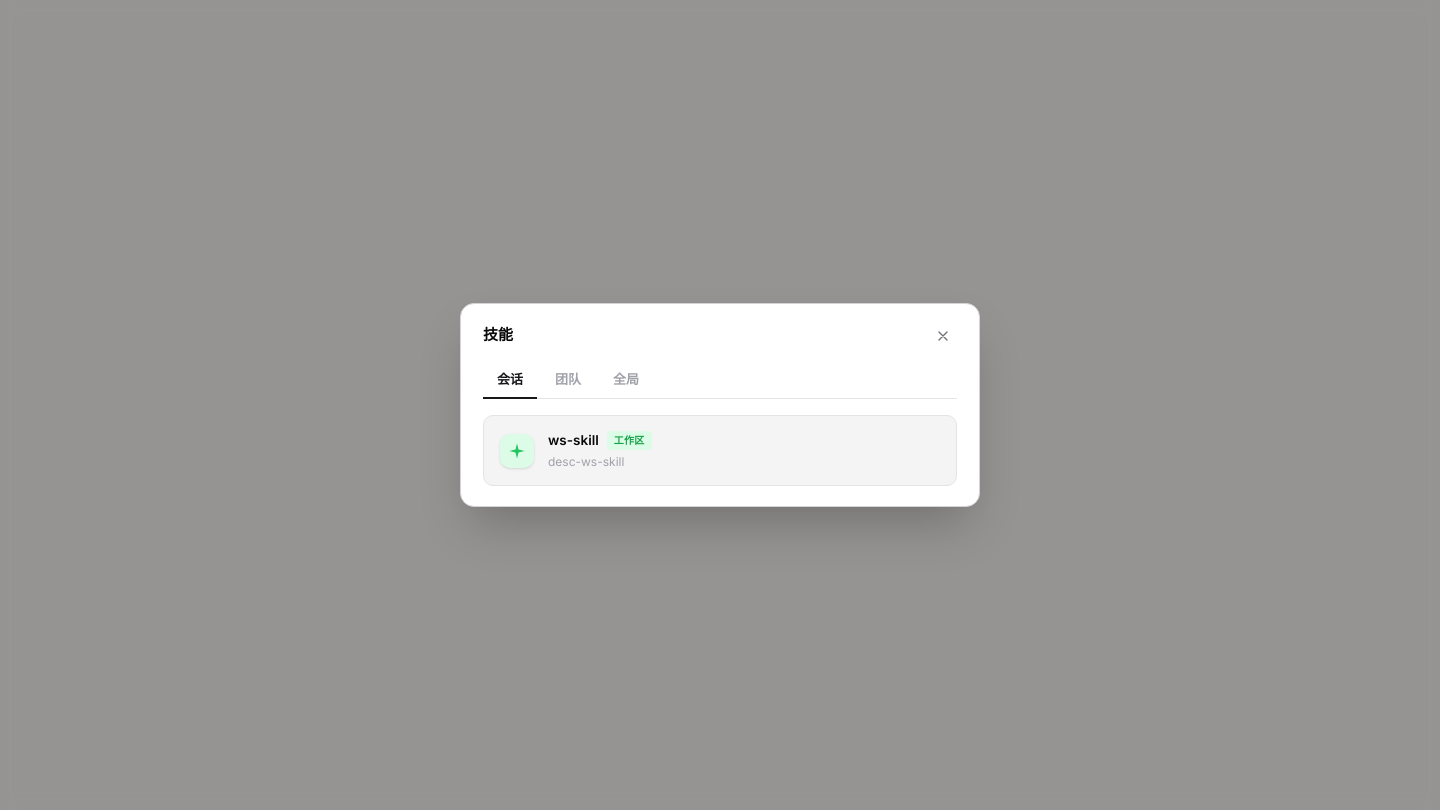
Test: ComponentSkillsModal — 空态（playground group tab，UC-S3） › group 组为空 → 空态 icon + muted 文案
Click the tab "团队". click: click(568, 379)
box: [555, 371, 581, 387]
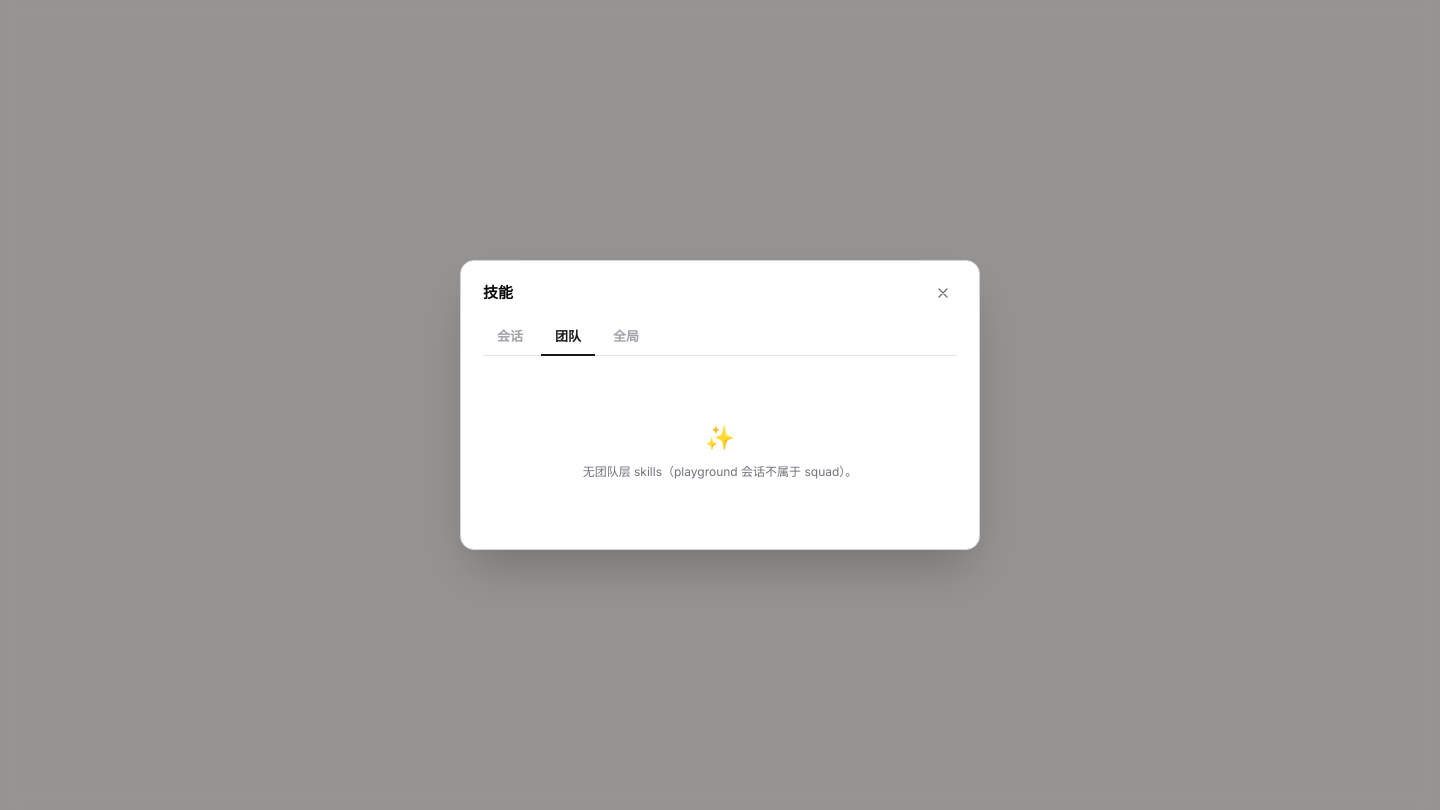
Now the text "无团队层 skills（playground 会话不属于 squad）。" is shown, box [583, 464, 857, 479]
Now the text "ws-skill" is gone
